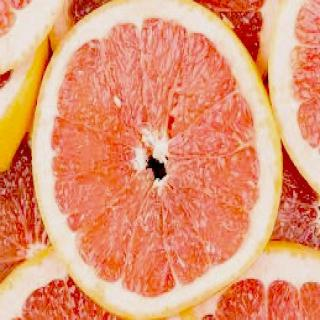orange: (23, 0, 284, 320)
